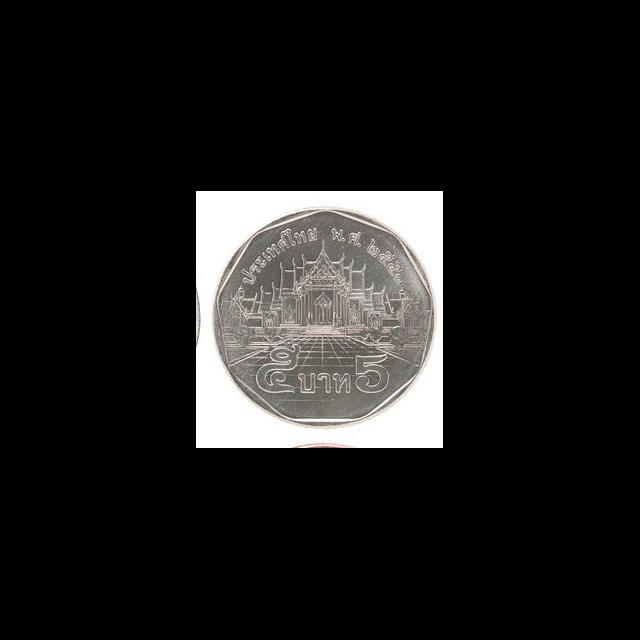5-baht: (205, 197, 439, 437)
